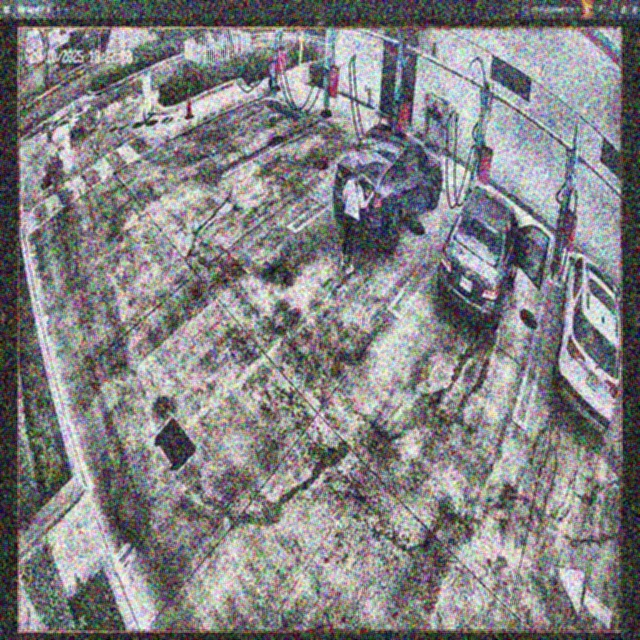Car: (438, 185, 547, 330), (333, 124, 442, 247)
